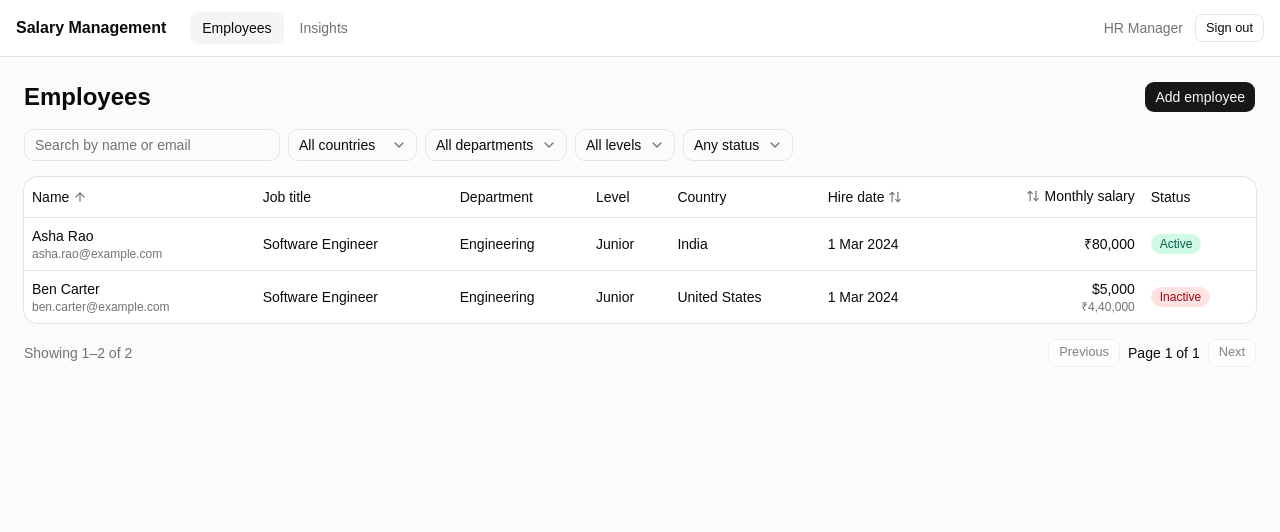
employee list › opens an employee when any part of their row is clicked
Click the text "United States". click: (745, 296)
box: 669,270 -> 820,322
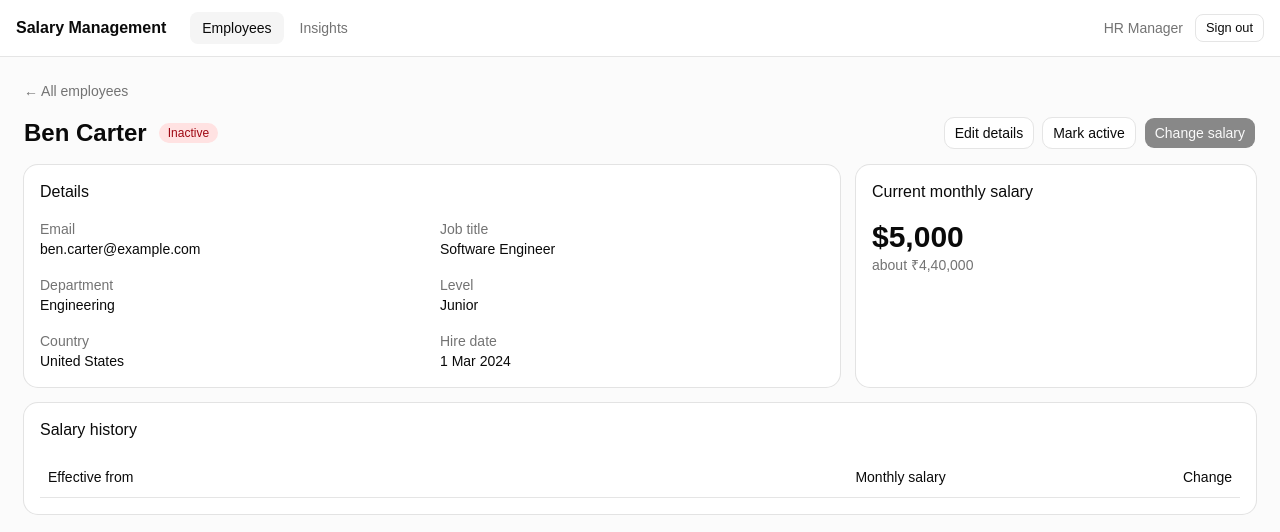
Check: the heading "Ben Carter" is shown, box 24,117 -> 147,149
